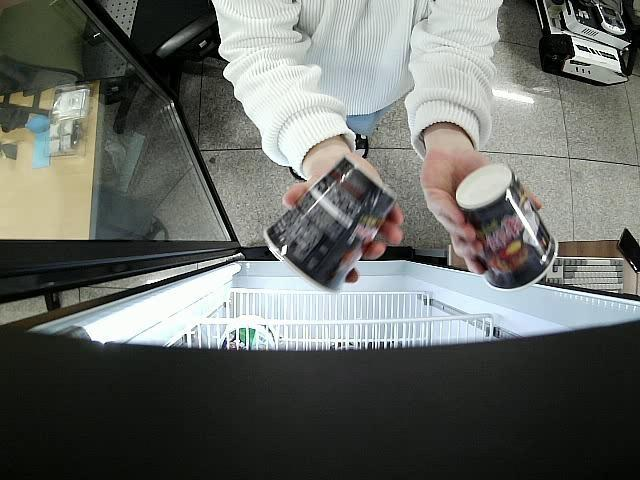08_buldak_S: (264, 158, 398, 293), (457, 162, 558, 292)
